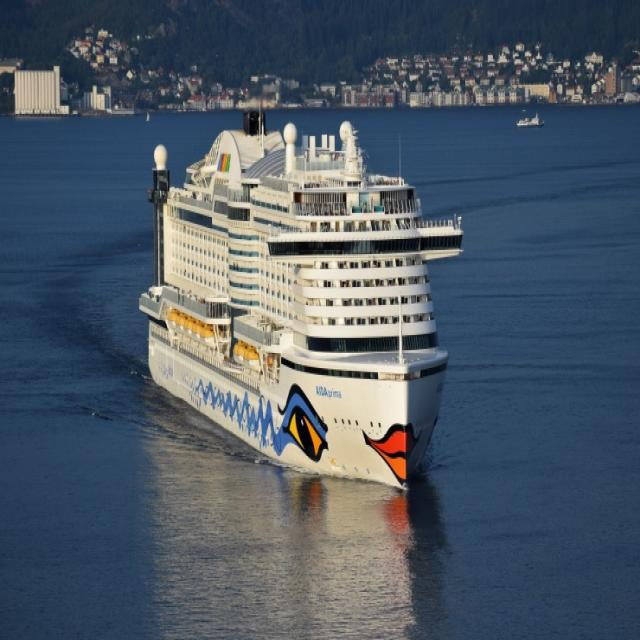cruises: (141, 106, 457, 510)
